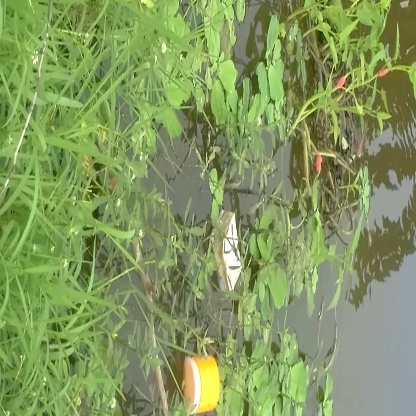bottle: (177, 352, 228, 416)
milk-box: (207, 204, 247, 295)
